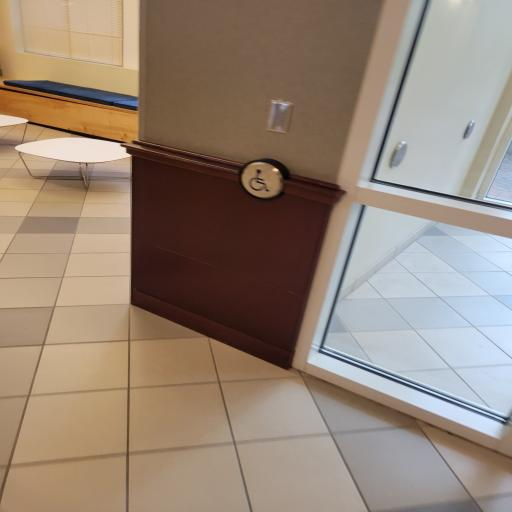handicap push button: (228, 152, 296, 204)
table: (10, 132, 148, 182)
